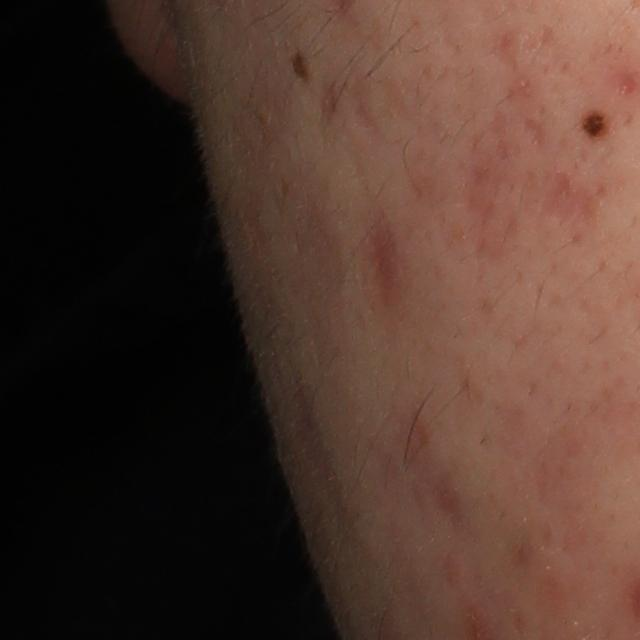atrophic_scar: (540, 167, 606, 234), (519, 22, 558, 54), (521, 114, 547, 147), (617, 70, 640, 95)
nevus: (581, 105, 610, 141), (290, 52, 311, 82)
